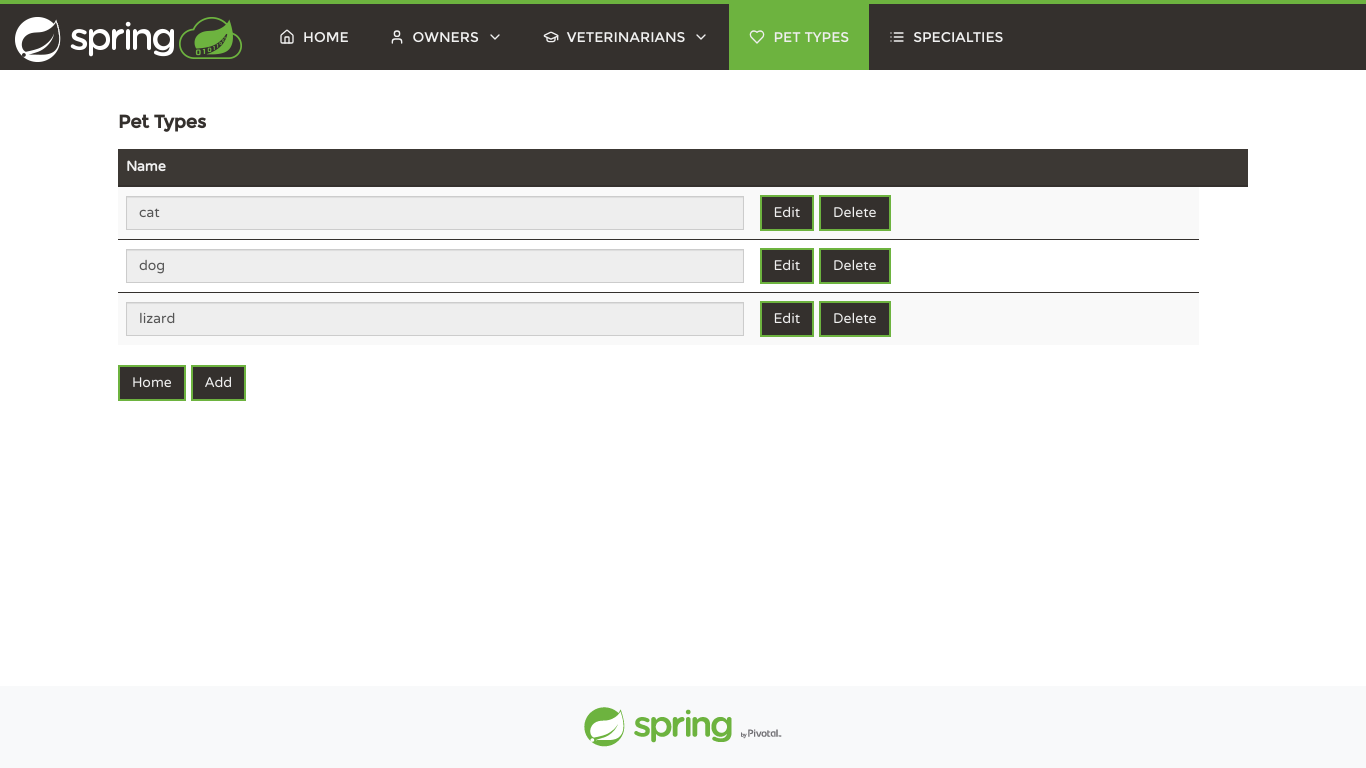
Test: PetTypeListPage › shows and dismisses a delete error
What coordinates should you click on to do the following:
click the 1st button "Delete"
I would click on:
 (855, 213)
Its box is [819,195,890,231].
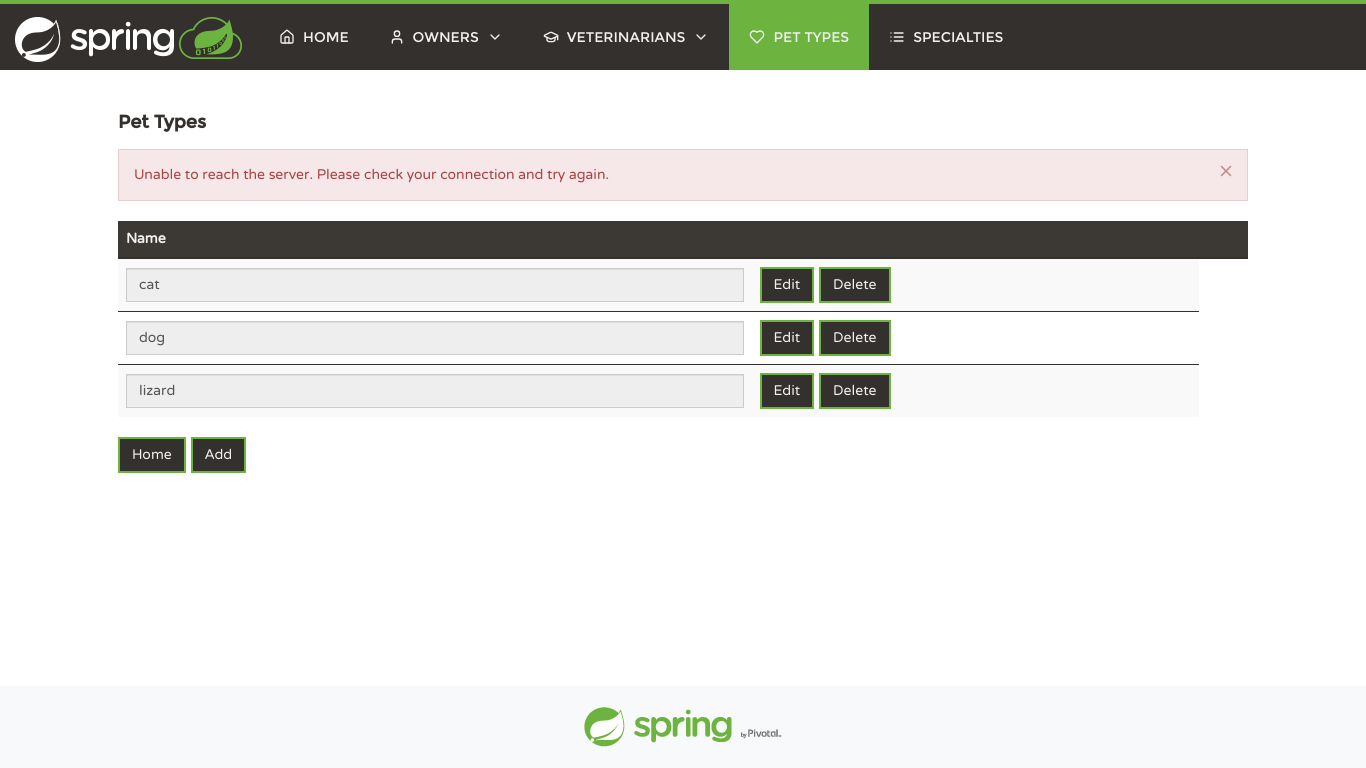
Result: the message shows "Unable to reach the server" at [134,167,609,183]
What coordinates should you click on to do the following:
click the button named "Dismiss error"
I would click on:
 (1226, 171)
Its box is [1213,158,1239,184].
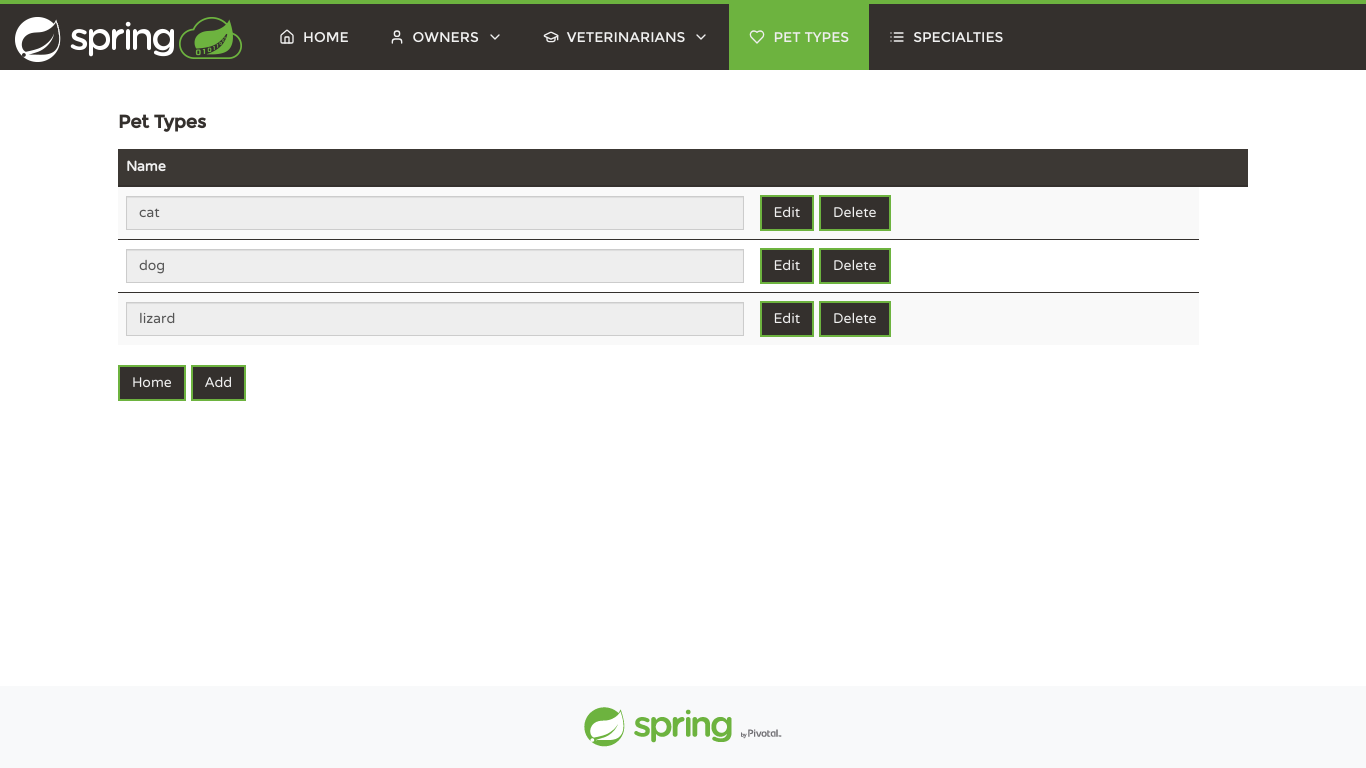
Result: the message "Unable to reach the server. Please check your connection and try again." is gone
